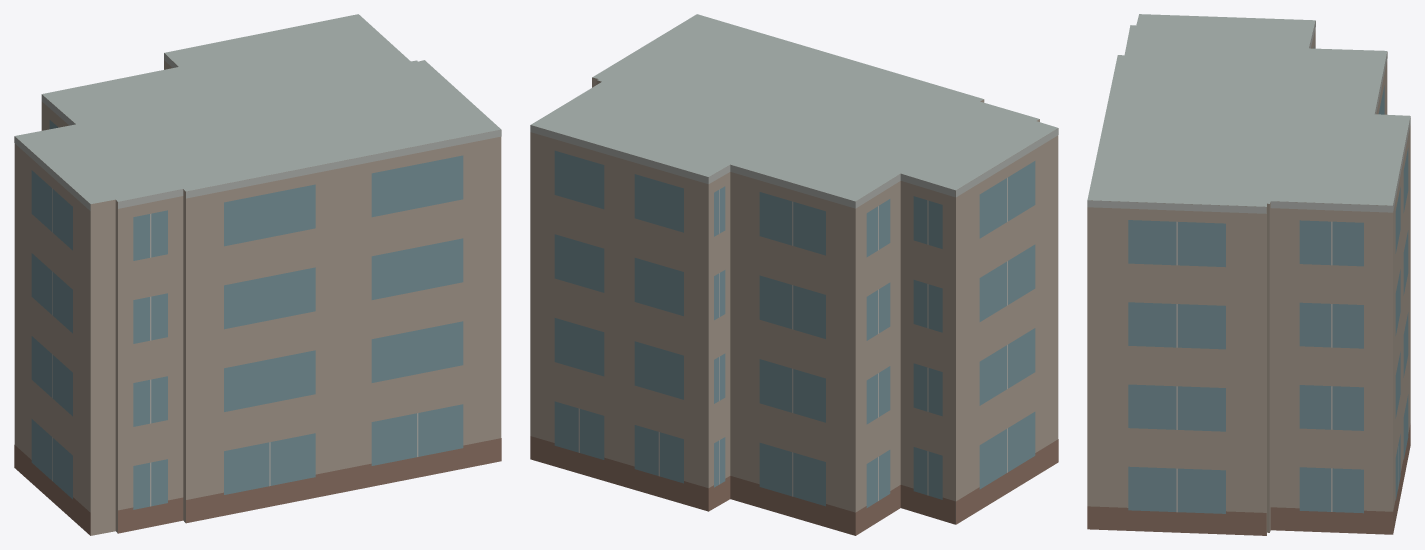
File: survey-upis-32576204.glb
The picture shows the model from 3 angles, left to right: view 1: azimuth 30°, elevation 25°; view 2: azimuth 150°, elevation 25°; view 3: azimuth 270°, elevation 25°; orthographic projection.
Parts seen in each view (by area): view 1: survey-upis-32576204.tmp; view 2: survey-upis-32576204.tmp; view 3: survey-upis-32576204.tmp.
Boxes of the visible parts, left/top/right/bottom form: survey-upis-32576204.tmp: left=14, top=14, right=501, bottom=535; survey-upis-32576204.tmp: left=530, top=14, right=1058, bottom=535; survey-upis-32576204.tmp: left=1087, top=14, right=1410, bottom=535.
Bounding box in the file's own units: 14.4 × 11.45 × 10.21.
